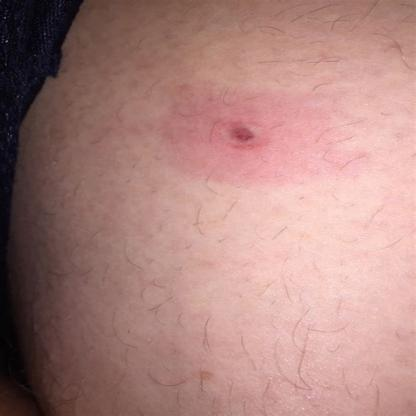Tick: (160, 82, 361, 198)
